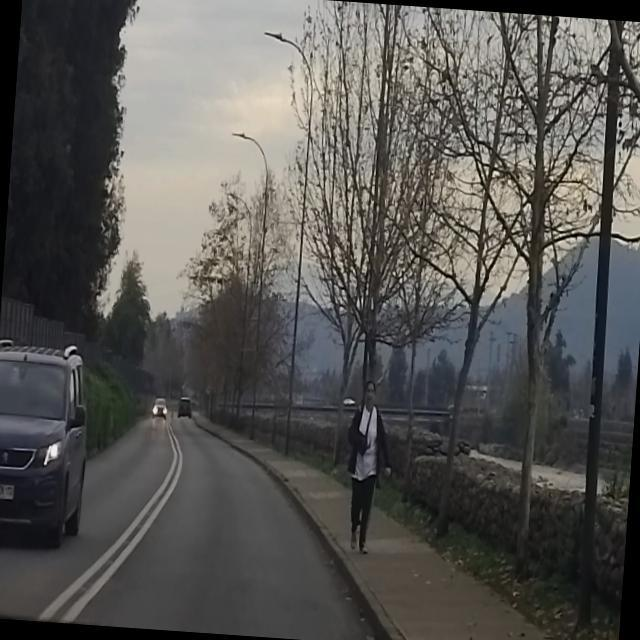person: (338, 376, 399, 560)
